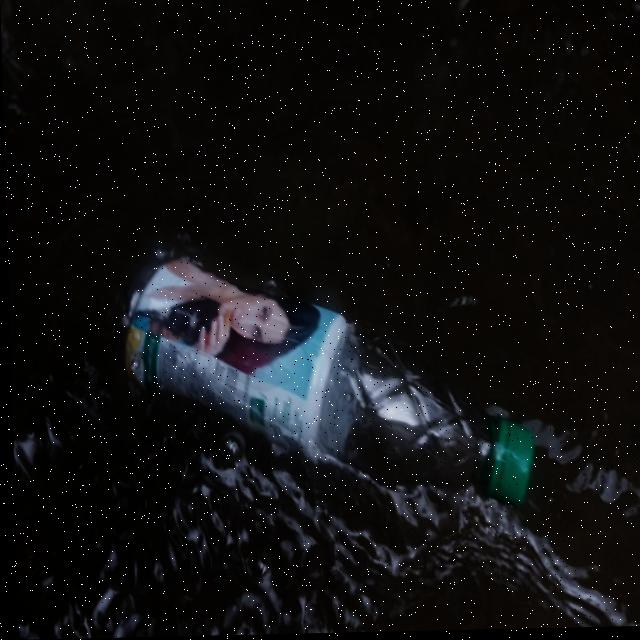waterbottle: (90, 223, 548, 535)
